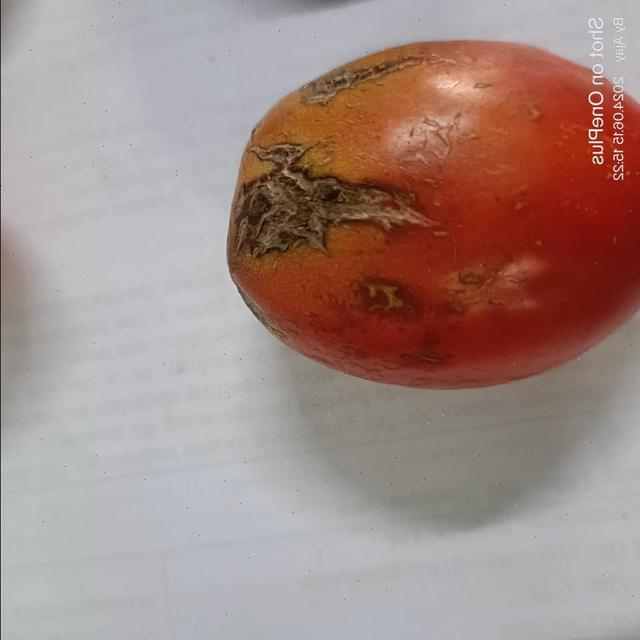Cracking Fruit: (200, 37, 282, 170)
